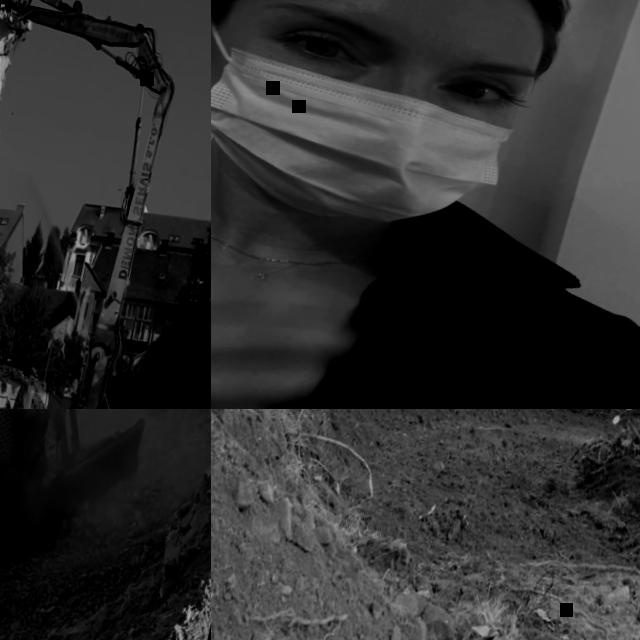Mask: (211, 53, 511, 243)
NO-Safety Vest: (211, 172, 640, 409)
Person: (211, 0, 640, 409)
machinery: (0, 0, 211, 409), (0, 409, 187, 567)
